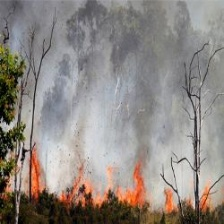fire: (1, 145, 224, 221)
smoke: (42, 16, 216, 142)
